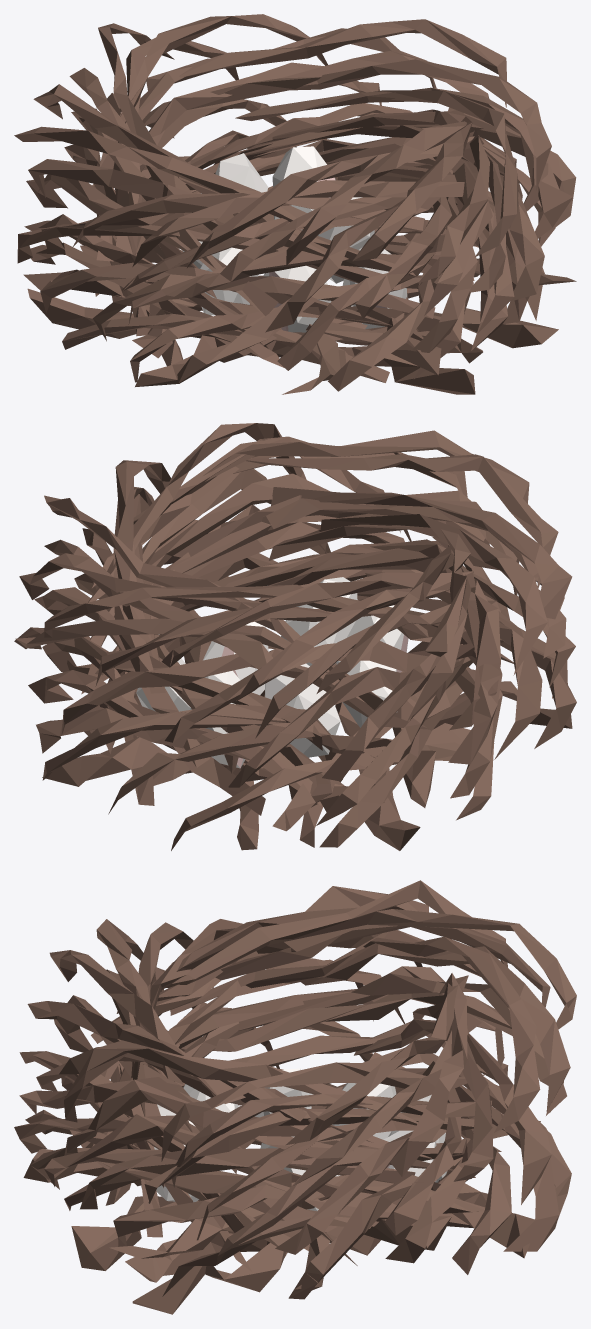
The model's file is Nest_15.fbx.
The picture shows the model from 3 angles, top to bottom: view 1: azimuth 30°, elevation 25°; view 2: azimuth 150°, elevation 25°; view 3: azimuth 270°, elevation 25°; orthographic projection. The views are drawn at different scales.
Visible parts, largest first — view 1: Nest_15_LOD0; view 2: Nest_15_LOD0; view 3: Nest_15_LOD0.
Part boxes in pixels (x1,y1,x2,y2): Nest_15_LOD0: (14, 14, 576, 394); Nest_15_LOD0: (14, 423, 576, 850); Nest_15_LOD0: (14, 880, 576, 1314).
Size of what is drawn, in the model's own units: 35.04 by 18.78 by 34.79.
